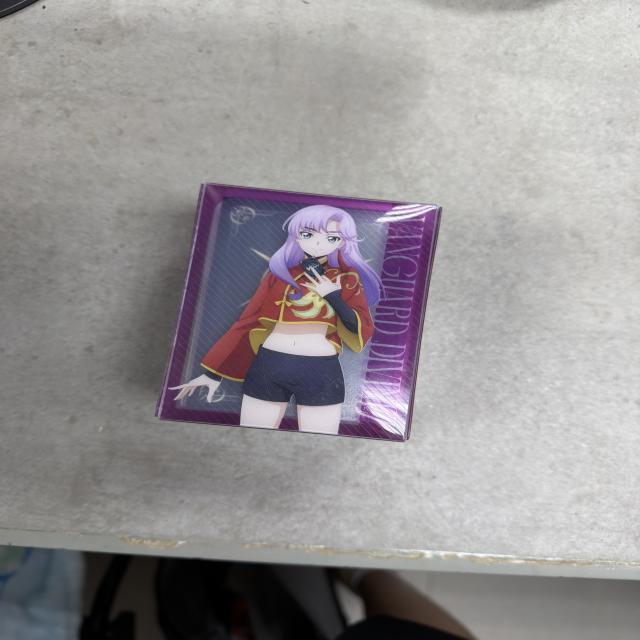box: (155, 180, 443, 446)
